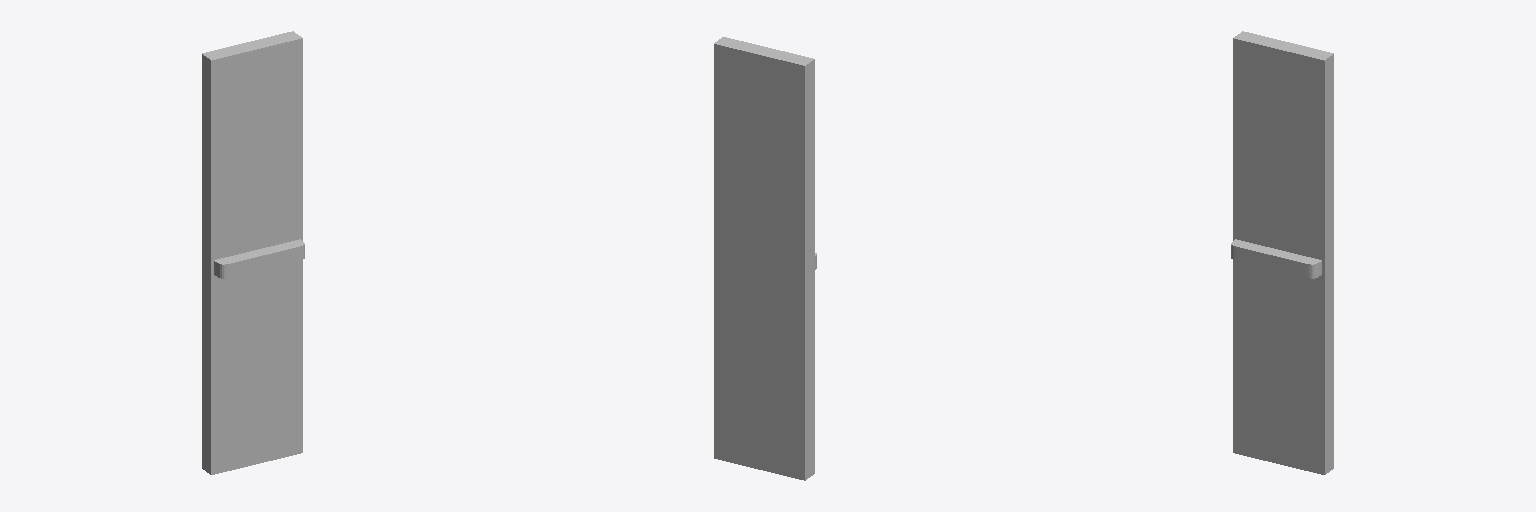
The model's file is sc3_tuer_rechts.obj.
3 renders of one model, left to right at view 1: azimuth 30°, elevation 25°; view 2: azimuth 150°, elevation 25°; view 3: azimuth 330°, elevation 25°, orthographic.
Visible parts, largest first — view 1: Tuer2; view 2: Tuer2; view 3: Tuer2.
Boxes of the visible parts, x1=… form: Tuer2: x1=202, y1=31, x2=304, y2=474; Tuer2: x1=714, y1=37, x2=816, y2=480; Tuer2: x1=1231, y1=31, x2=1333, y2=474.
Bounding box in the file's own units: 1.11 × 4.8 × 0.3607.